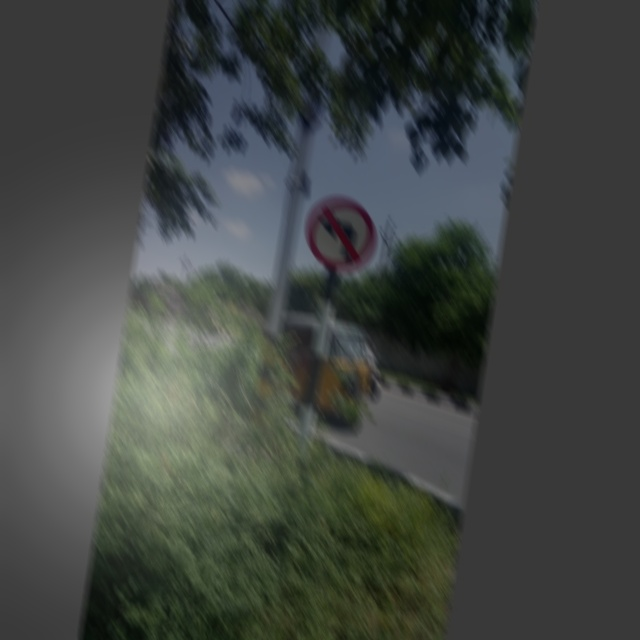Left_Turn_Prohibited: (299, 193, 383, 277)
